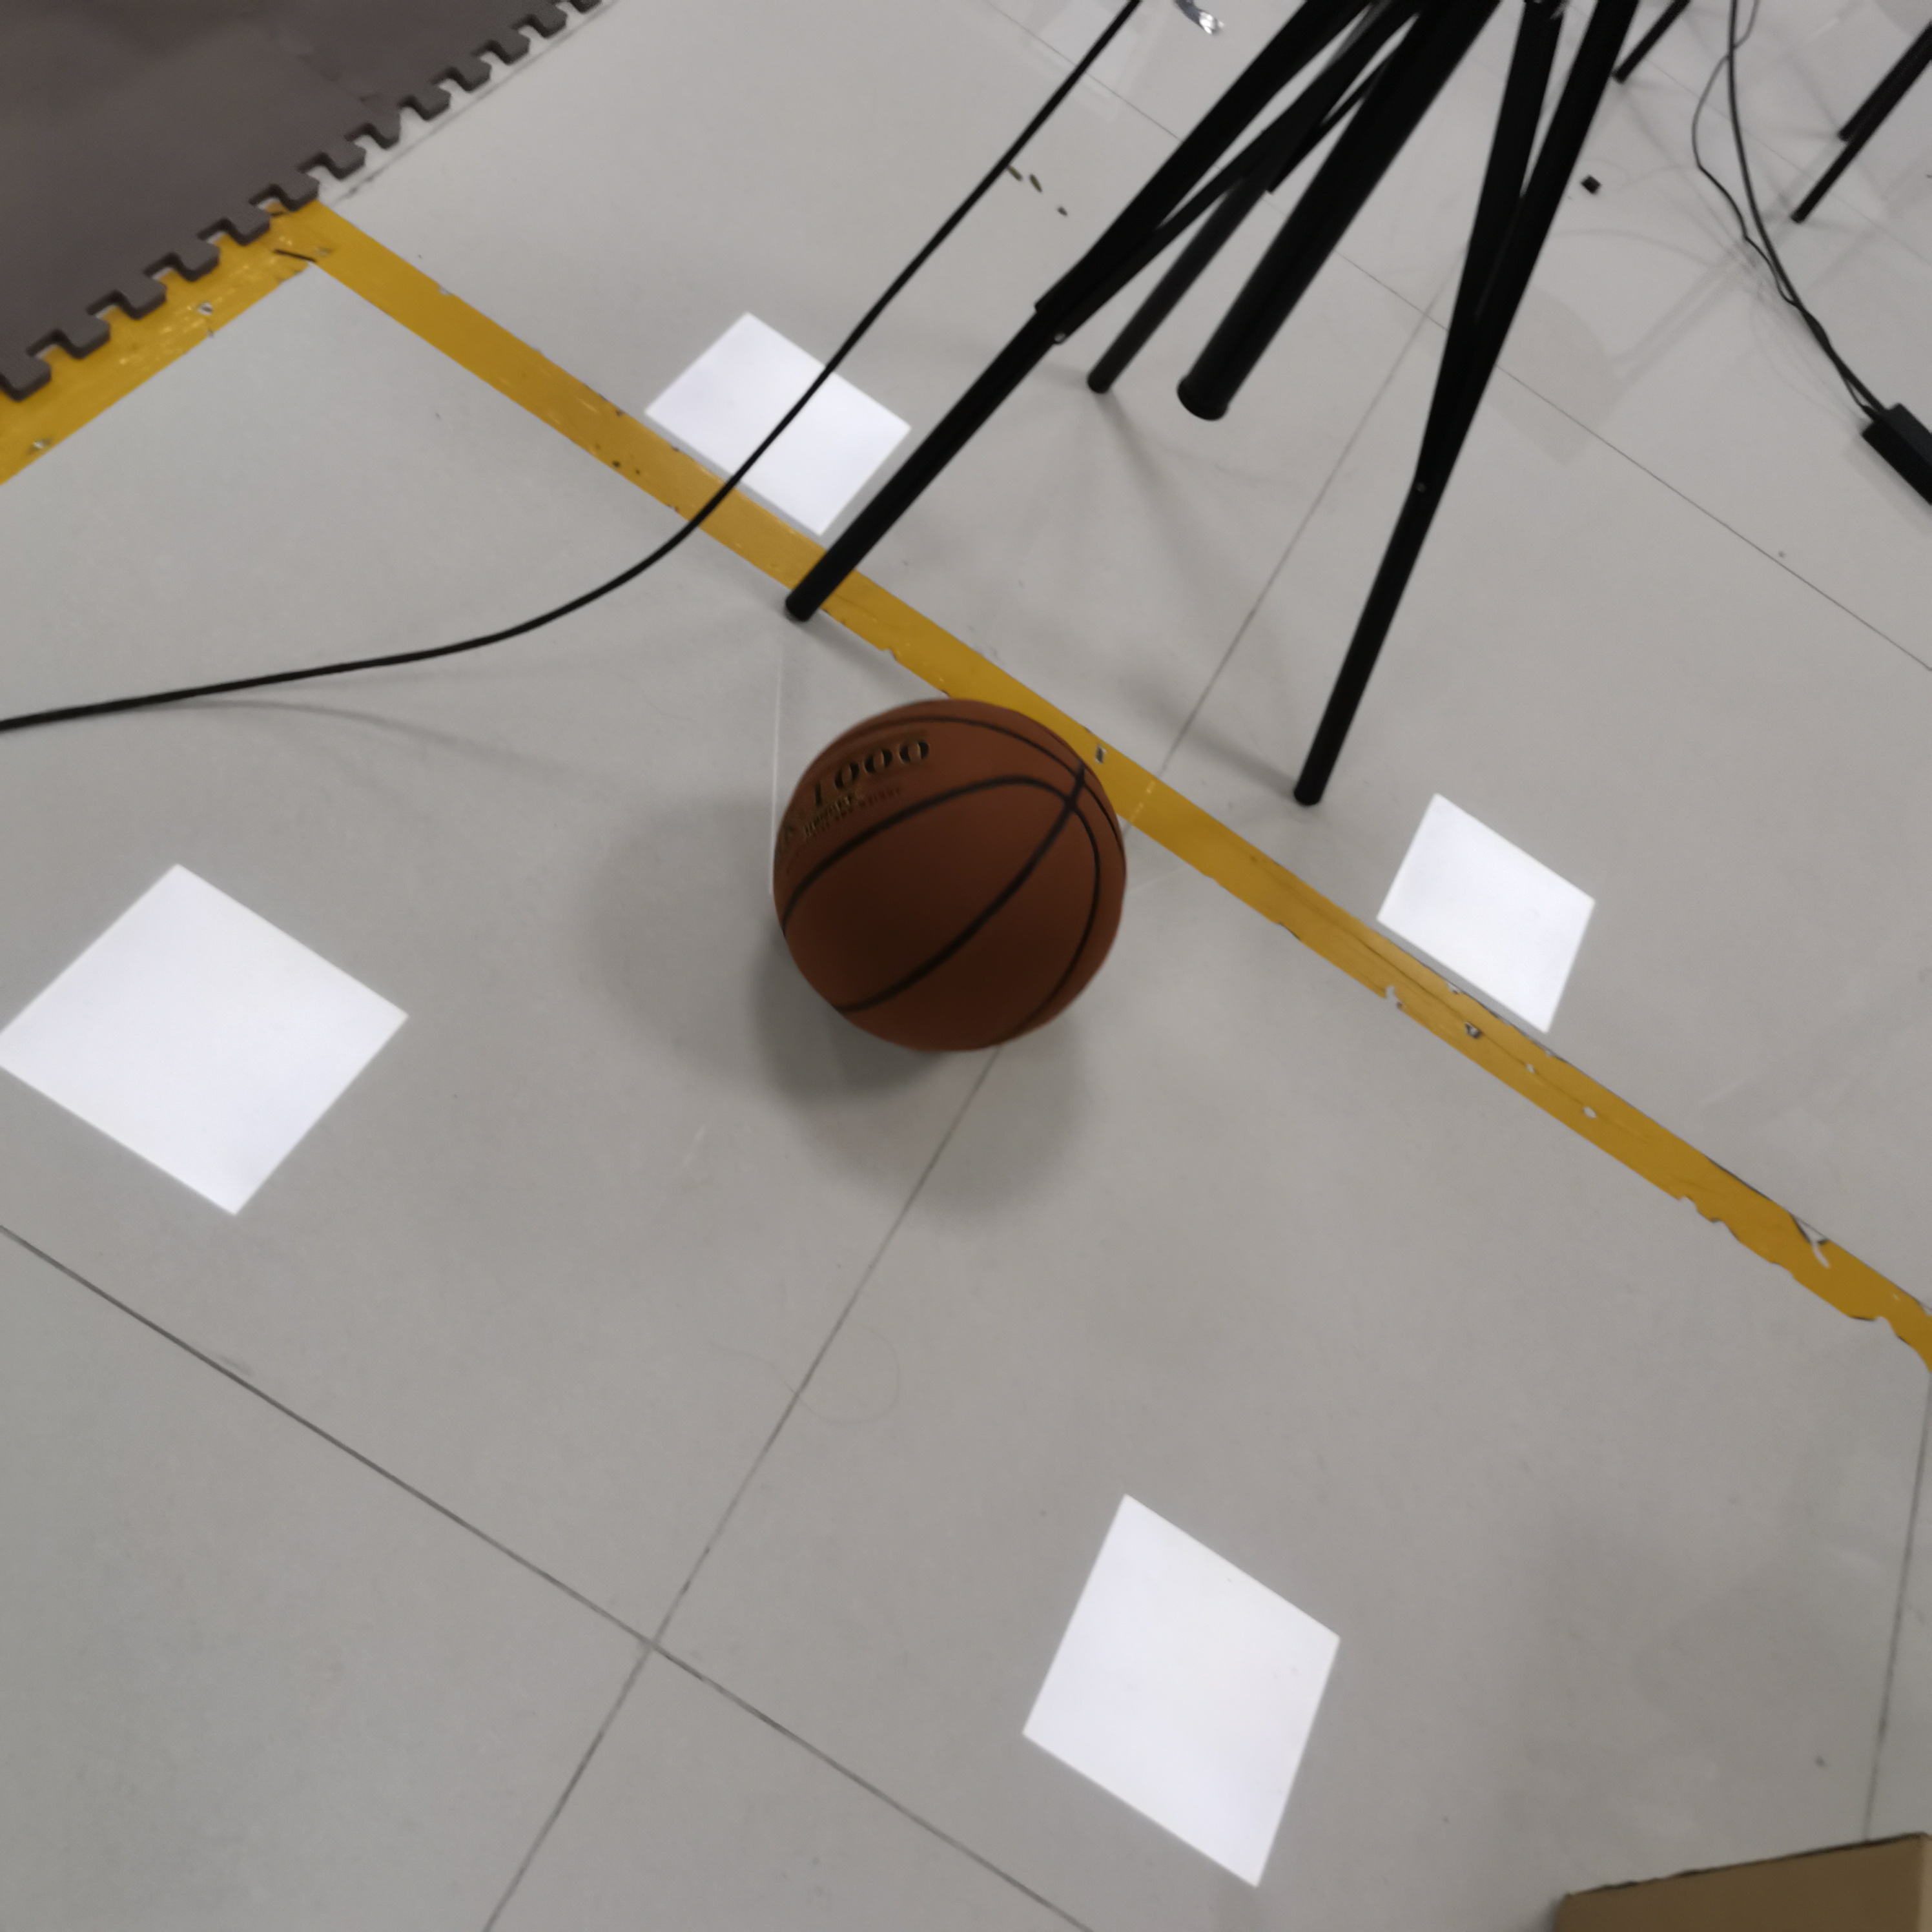basketball: (777, 699, 1129, 1053)
